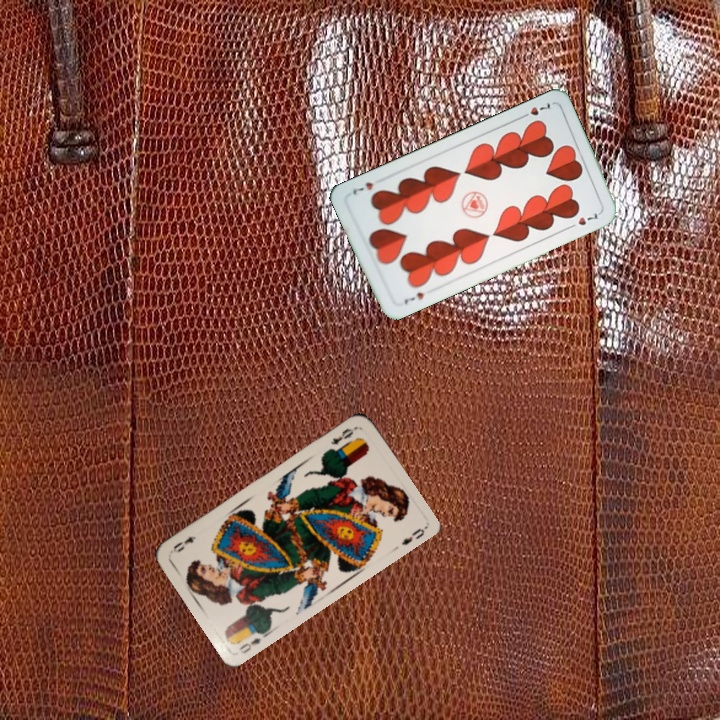EO: (235, 627, 270, 656), (327, 423, 359, 448)
H7: (516, 99, 553, 121), (400, 288, 426, 307)
